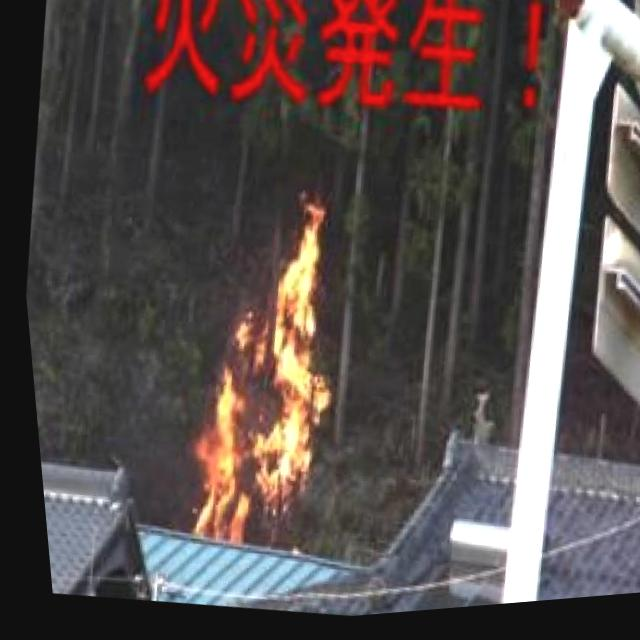Fire: (144, 164, 380, 573)
